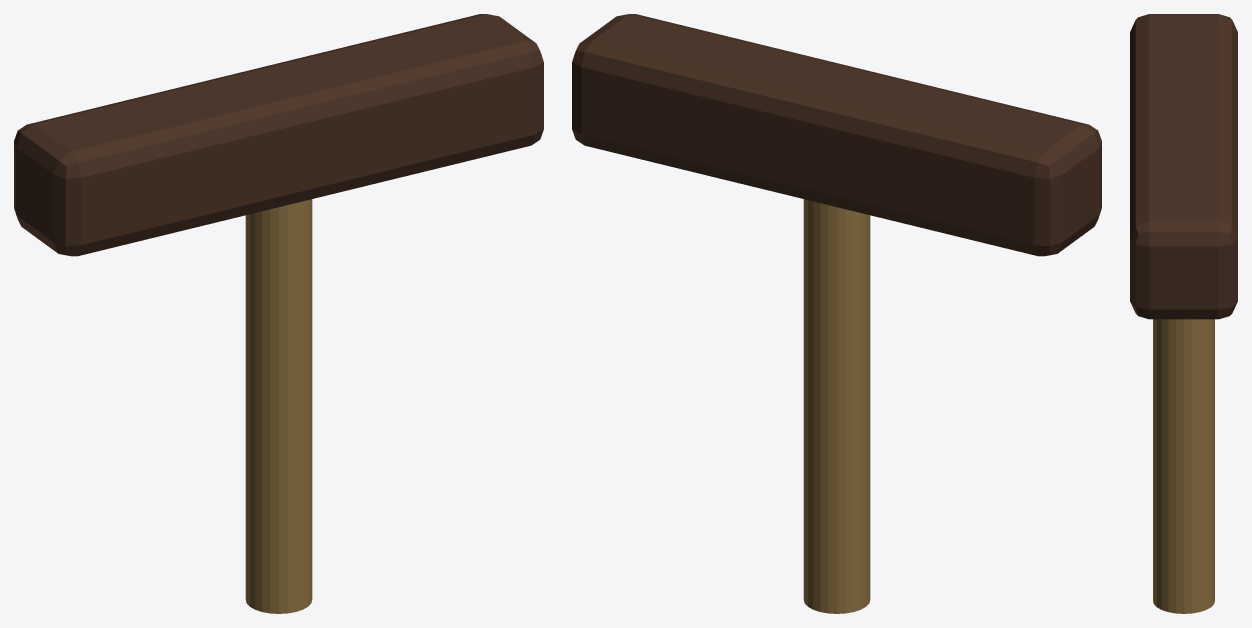
The model's file is Pump.fbx.
3 views of the same model, side by side, from view 1: azimuth 30°, elevation 25°; view 2: azimuth 150°, elevation 25°; view 3: azimuth 270°, elevation 25° (orthographic). The views are drawn at different scales.
Parts seen in each view (by area): view 1: pump grip, pump stem; view 2: pump grip, pump stem; view 3: pump grip, pump stem.
Part boxes in pixels (box(x1,y1,x2,y2)): pump grip: box(14, 14, 543, 256); pump stem: box(245, 199, 312, 613); pump grip: box(572, 14, 1101, 256); pump stem: box(803, 199, 870, 613); pump grip: box(1130, 14, 1237, 319); pump stem: box(1153, 319, 1214, 613).
Bounding box in the file's own units: 22 × 22.25 × 4.5.
